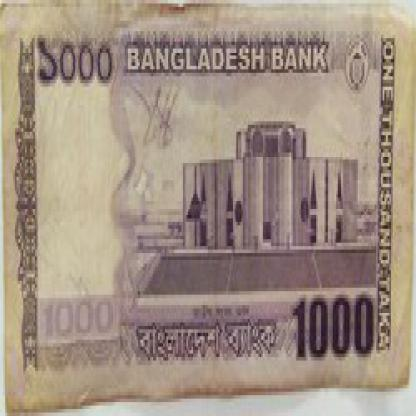One Thousand taka: (288, 291, 378, 361), (35, 31, 115, 97), (40, 291, 116, 340)
